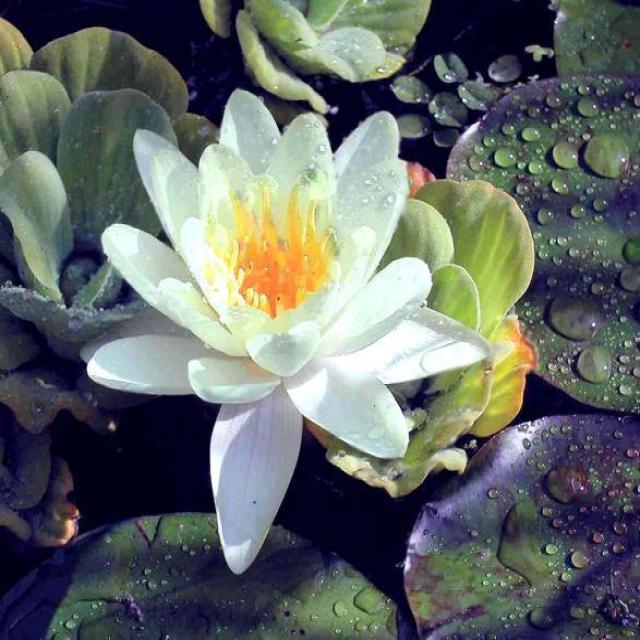water-lily: (106, 70, 529, 589)
